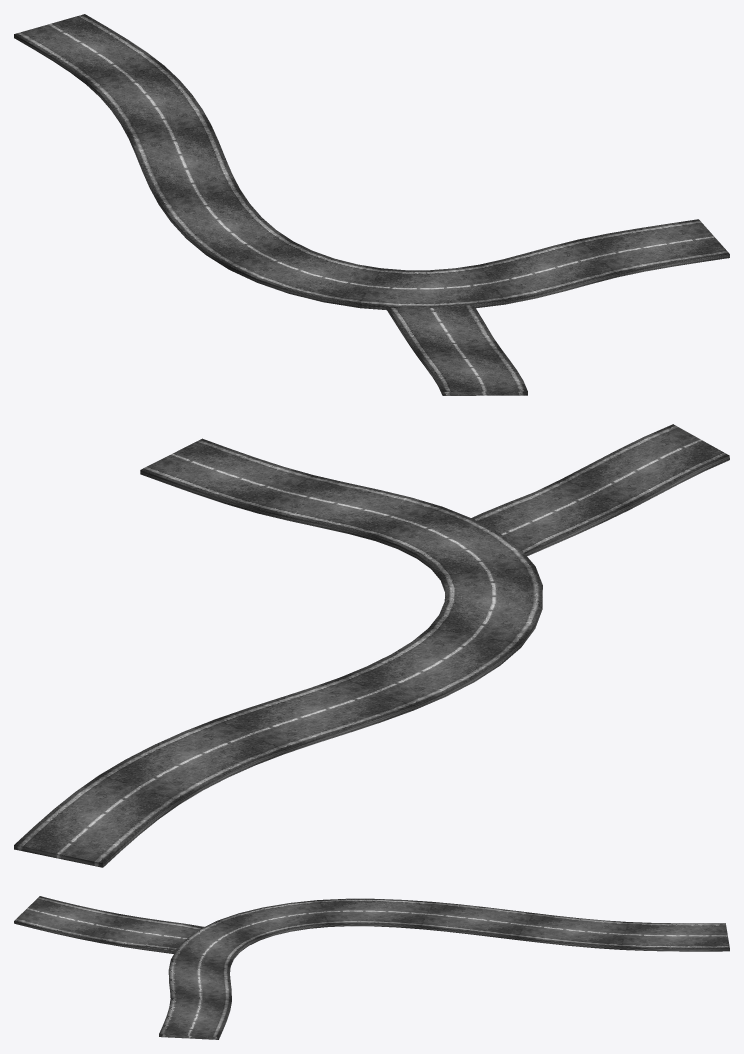
The model's file is demo_road.dae.
3 renders of one model, top to bottom at view 1: azimuth 30°, elevation 25°; view 2: azimuth 150°, elevation 25°; view 3: azimuth 270°, elevation 25°, orthographic. The views are drawn at different scales.
Parts seen in each view (by area): view 1: road; view 2: road; view 3: road.
Boxes of the visible parts, x1=… form: road: x1=14, y1=14, x2=729, y2=395; road: x1=14, y1=424, x2=729, y2=867; road: x1=14, y1=896, x2=729, y2=1039.
Size of the model in its own units: 32.58 by 71.05 by 1.61.
